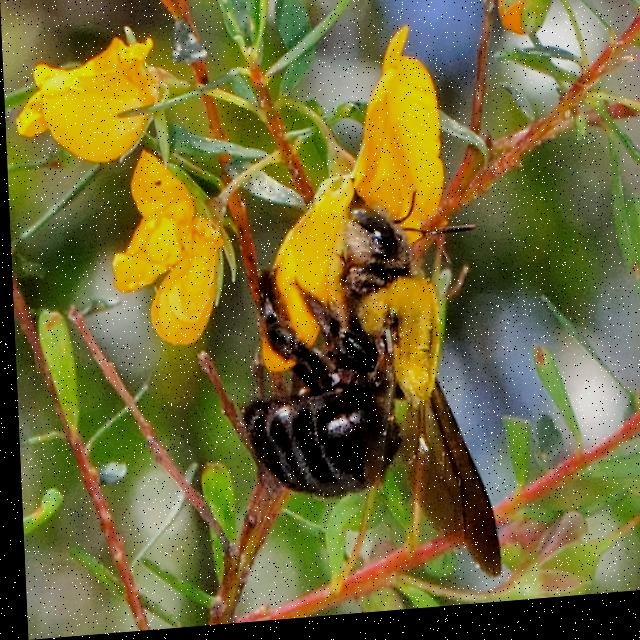Xylocopa: (189, 156, 519, 607)
